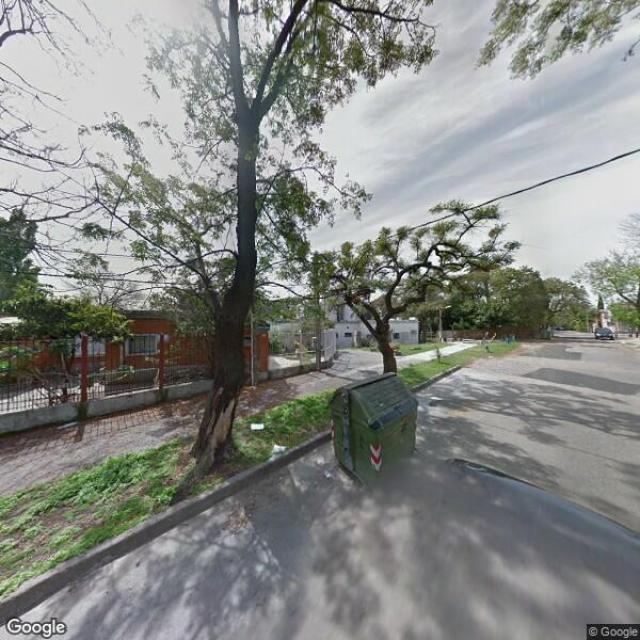garbage container: (321, 367, 431, 495)
